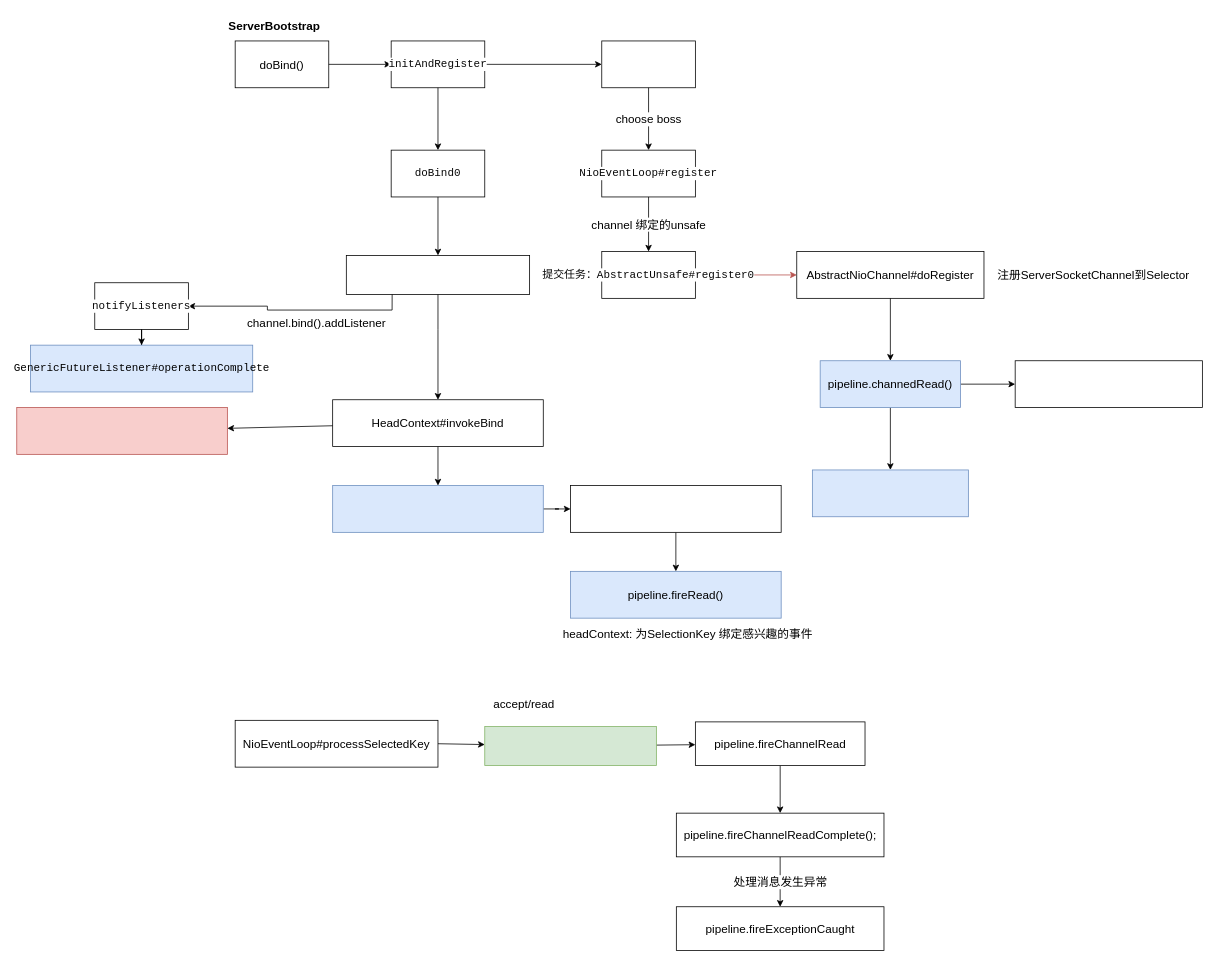
Some shapes in this 1216 by 964 pixel diagram are drawn without their labels. The shapes that lost their labels are listed below. From the top down, each one's centre as x and y in pixels, then its label:
At pixel 648 64: "MultithreadEventLoopGroup#register".
At pixel 438 274: "提交任务，为ServerSocketChannel 绑定ip：port".
At pixel 1108 384: "ServerBootstrap#init pipeline添加handler、childHandler".
At pixel 121 430: "NioServerSocketChannel#doBind".
At pixel 437 508: "提交任务： pipeline.fireChannelActive()".
At pixel 675 508: "readIfIsAutoRead();".
At pixel 890 493: "pipeline.channelRegistered".
At pixel 570 746: "NioMessageUnsafe#read".
